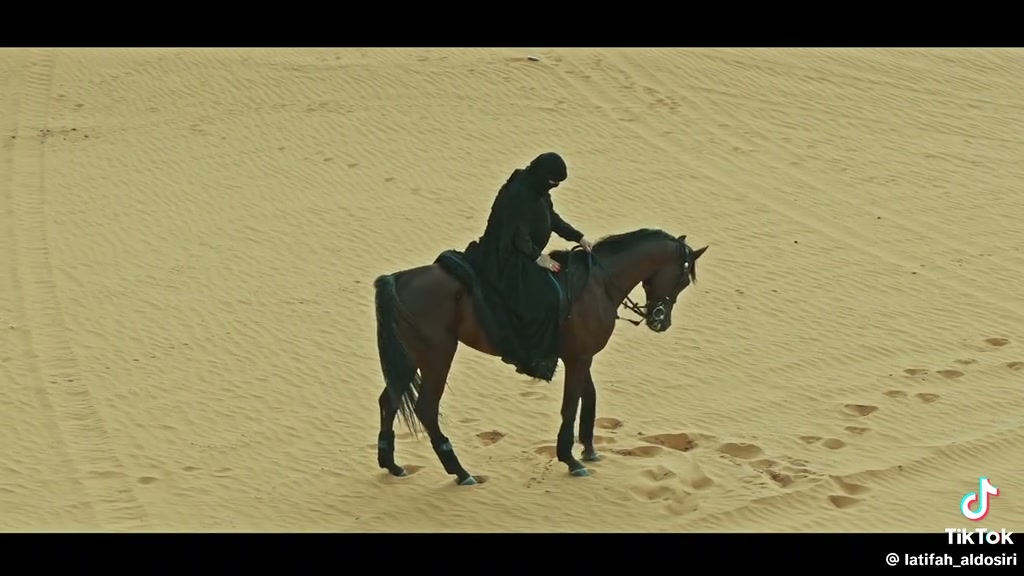animal_foot_print: (716, 442, 818, 488), (628, 462, 714, 514), (748, 456, 820, 488), (639, 432, 716, 451), (826, 476, 869, 508), (883, 389, 940, 403), (963, 336, 1011, 352), (798, 436, 846, 449), (839, 403, 878, 417), (476, 430, 505, 445), (595, 417, 623, 430), (902, 368, 931, 379), (843, 425, 869, 435), (1004, 361, 1023, 370)
